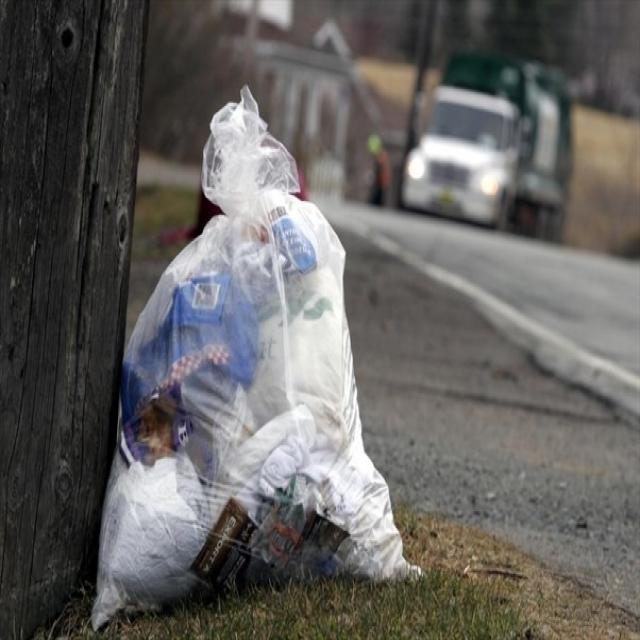plastic_bag: (82, 87, 411, 626)
